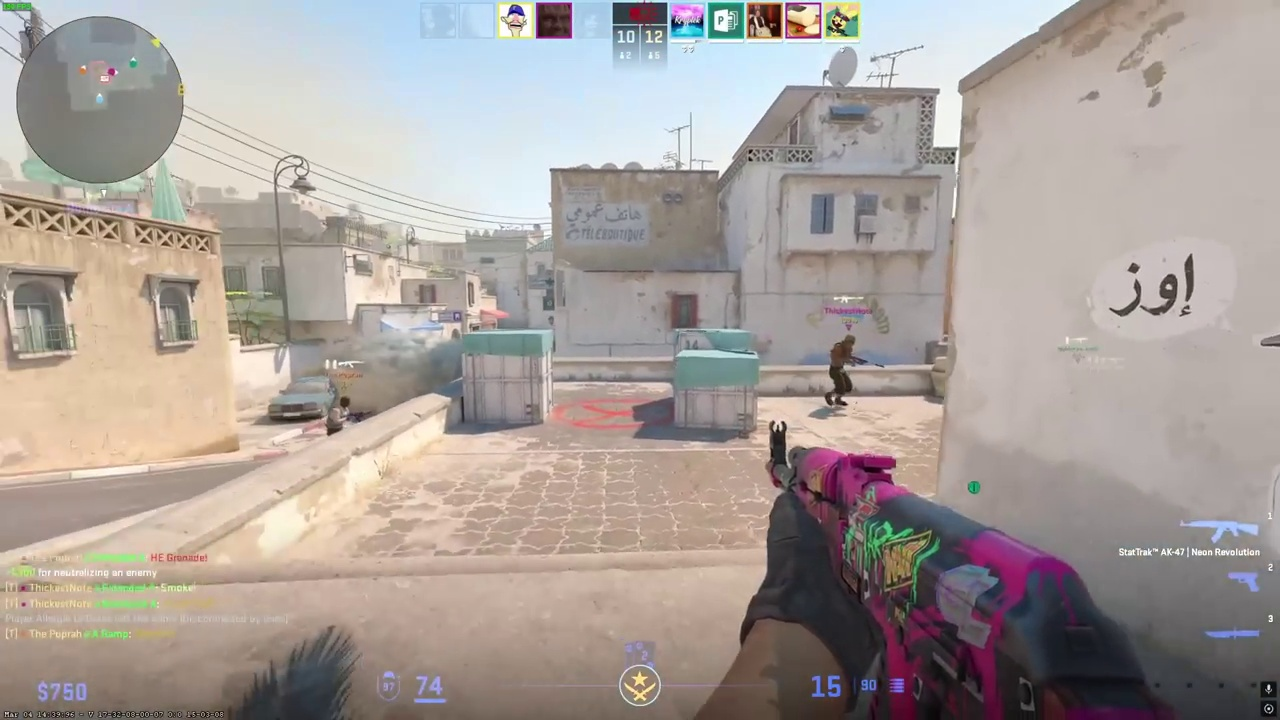Terrorist: (825, 334, 859, 407), (327, 396, 356, 436)
